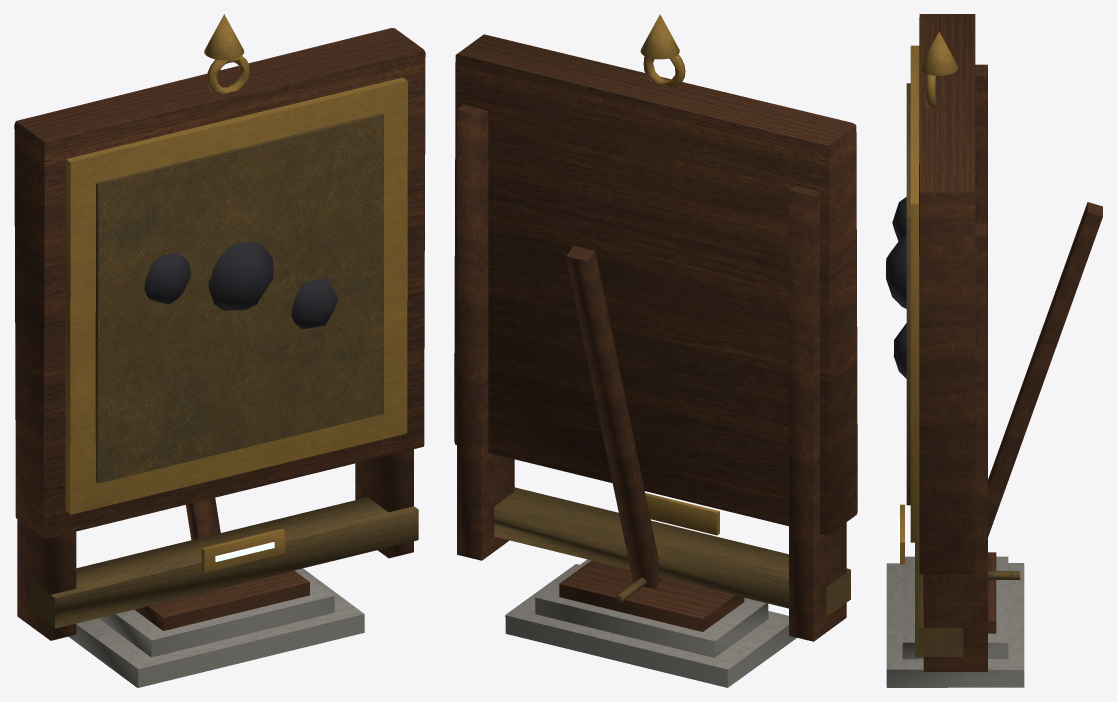
File: hp_room_l02_p01.glb
3 views of the same model, side by side, from view 1: azimuth 30°, elevation 25°; view 2: azimuth 150°, elevation 25°; view 3: azimuth 270°, elevation 25° (orthographic). The views are drawn at different scales.
Visible parts, largest first — view 1: room_l02_p01; view 2: room_l02_p01; view 3: room_l02_p01.
Boxes of the visible parts, box(x1,y1,x2,y2) form: room_l02_p01: box(14, 14, 425, 687); room_l02_p01: box(454, 14, 857, 687); room_l02_p01: box(886, 14, 1102, 687).
Bounding box in the file's own units: 1.04 × 1.63 × 0.5313.
Materials: 9 (6 with a texture image).
